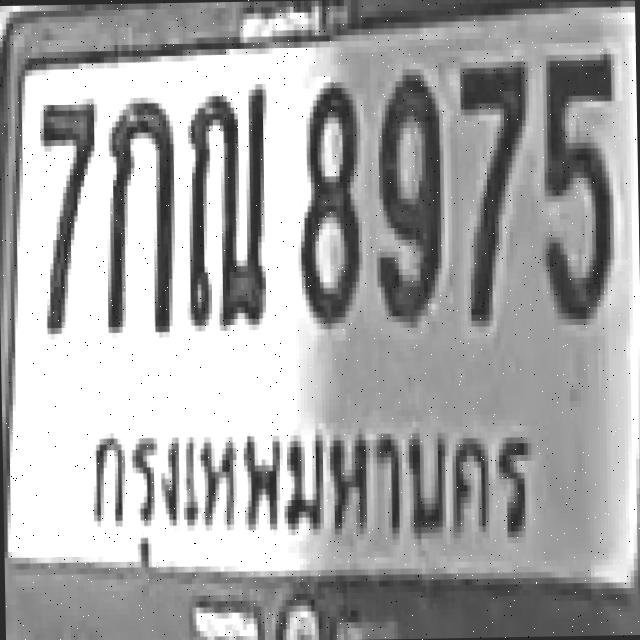10GorGai: (100, 90, 173, 332)
28NorNen: (181, 80, 268, 328)
5: (538, 48, 615, 319)
7: (456, 55, 528, 315), (37, 98, 99, 334)
8: (294, 75, 360, 324)
9: (374, 68, 438, 316)
Bangkok: (80, 404, 540, 578)
